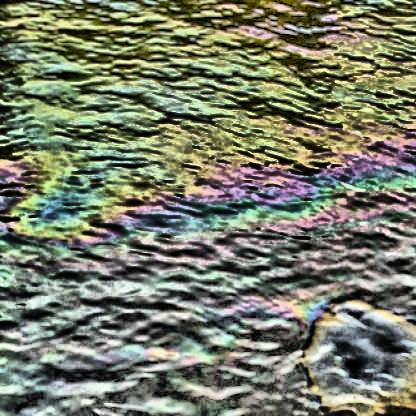rainbow: (0, 118, 416, 416)
